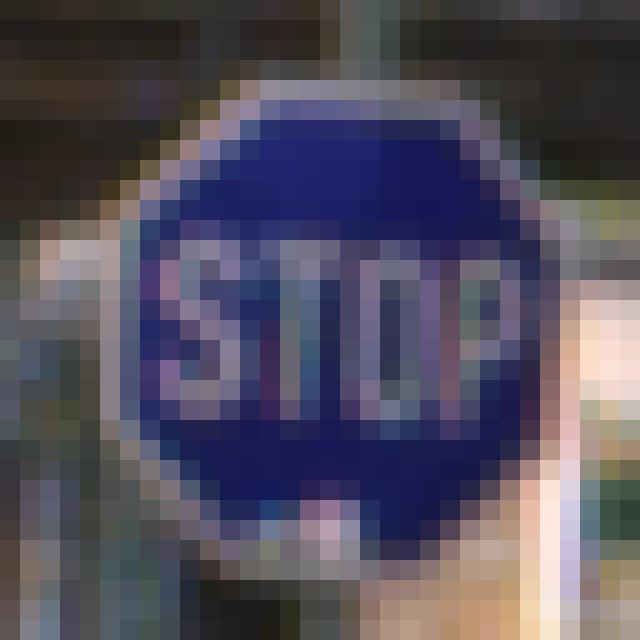STOP: (116, 78, 564, 569)
